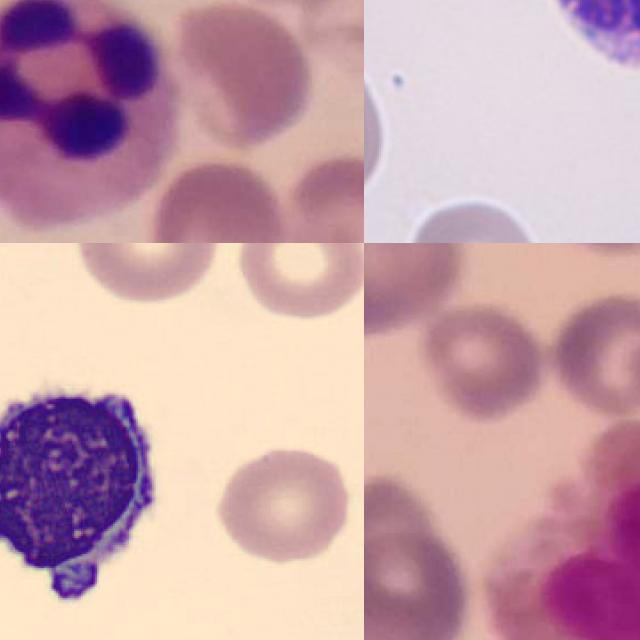Eosinophil: (489, 418, 640, 640)
Lymphocyte: (0, 365, 171, 626)
Neutrophil: (0, 0, 183, 227)
RBC: (207, 439, 357, 568), (230, 243, 364, 324), (68, 243, 226, 307), (395, 189, 558, 243), (364, 24, 391, 209), (364, 228, 416, 243)
